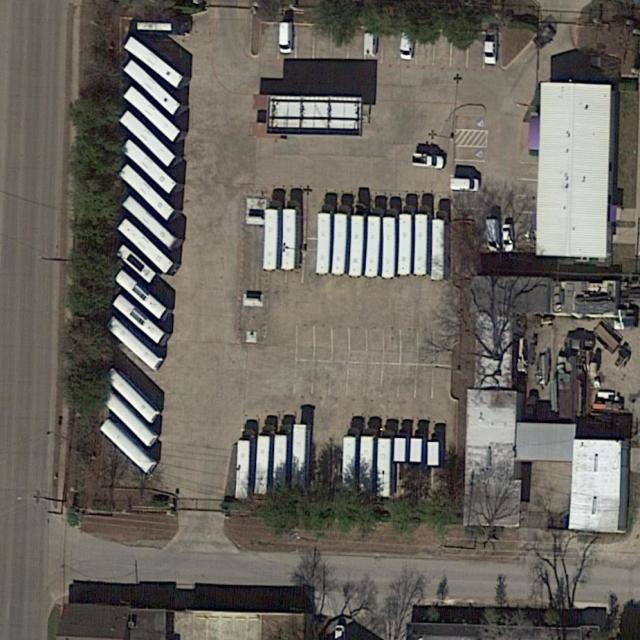large-vehicle: (104, 313, 164, 375), (122, 83, 182, 145), (116, 215, 175, 277), (118, 161, 176, 223), (118, 108, 176, 170), (120, 137, 179, 197), (98, 417, 157, 476), (122, 59, 182, 117), (101, 388, 158, 449), (103, 366, 161, 425), (121, 192, 178, 251), (123, 35, 184, 90), (112, 291, 167, 346), (115, 267, 169, 322), (116, 242, 158, 287), (280, 208, 302, 274), (291, 425, 311, 497), (253, 433, 274, 496), (316, 212, 336, 277), (331, 213, 351, 277), (412, 214, 432, 278), (407, 436, 427, 500), (235, 439, 255, 502), (359, 432, 378, 498), (340, 436, 360, 498), (263, 208, 282, 273), (374, 438, 394, 499), (365, 215, 384, 279), (431, 219, 450, 281), (349, 215, 367, 279), (391, 437, 409, 499), (273, 434, 291, 496), (381, 216, 398, 281), (398, 213, 415, 277), (426, 440, 441, 501), (135, 19, 174, 34)
small-vehicle: (411, 148, 446, 171), (484, 212, 501, 252), (399, 25, 417, 61), (278, 20, 295, 54), (450, 174, 480, 192), (483, 28, 497, 64), (500, 220, 515, 253), (362, 27, 378, 56)
